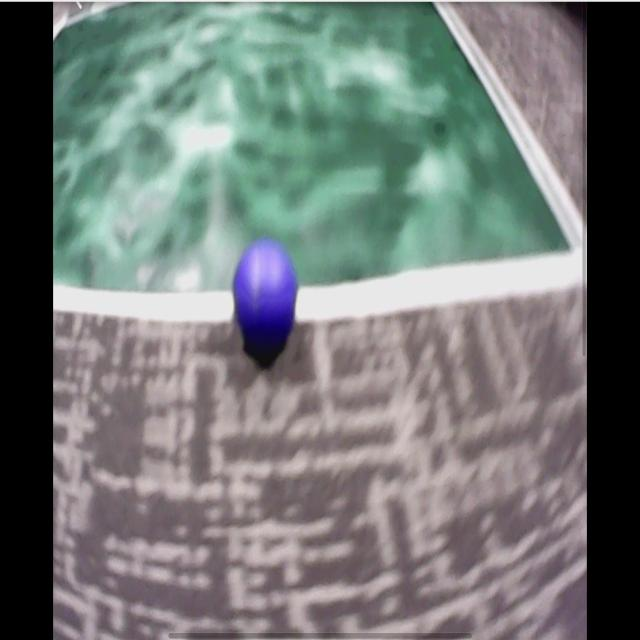ball: (234, 241, 300, 341)
